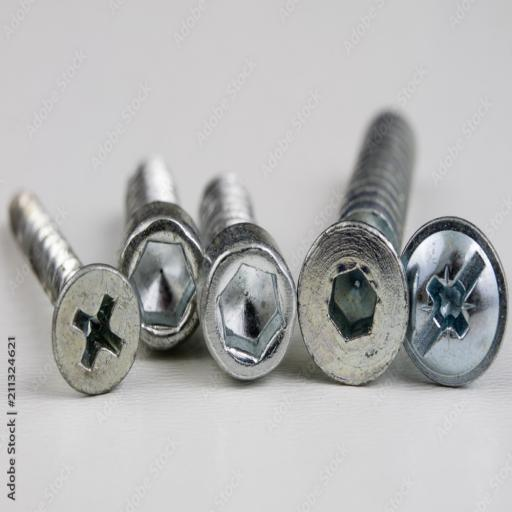Hex-Allen: (302, 217, 408, 385), (193, 230, 296, 382)
Phillips: (53, 262, 140, 400)
